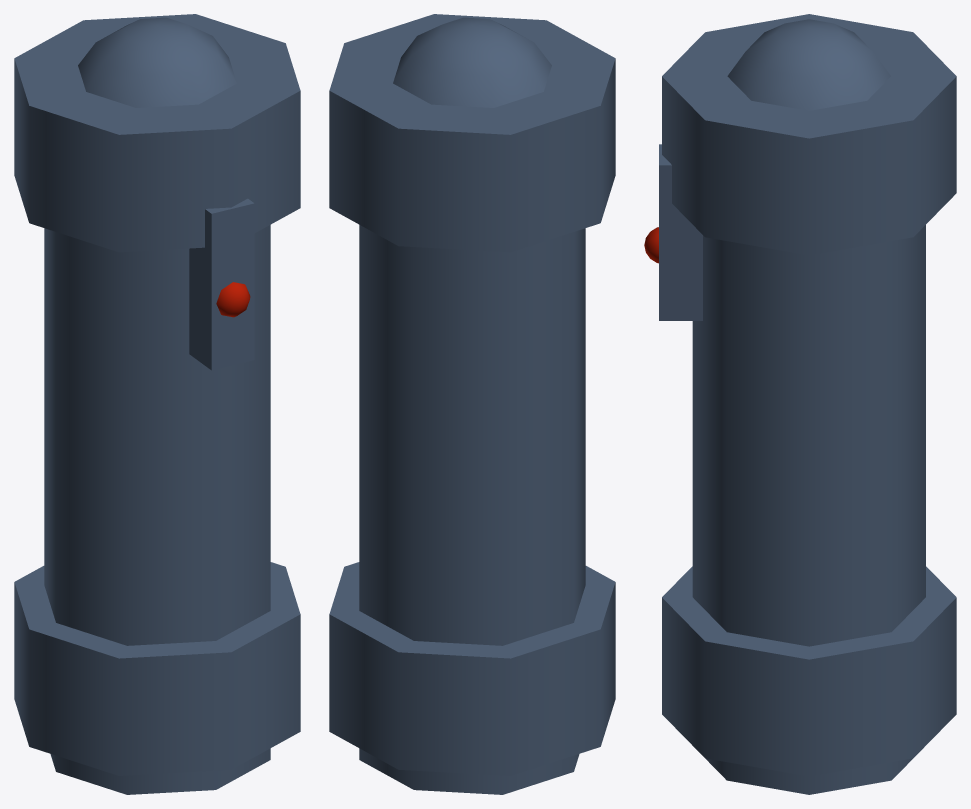
File: grenade.fbx
3 renders of one model, left to right at view 1: azimuth 30°, elevation 25°; view 2: azimuth 150°, elevation 25°; view 3: azimuth 270°, elevation 25°, orthographic.
Parts seen in each view (by area): view 1: grenade; view 2: grenade; view 3: grenade.
Boxes of the visible parts, x1,y1,x2,y2 form: grenade: (14,14,300,794); grenade: (329,14,615,794); grenade: (644,14,956,794).
Bounding box in the file's own units: 80.69 × 217 × 85.51.
2 materials, 2 textured.
